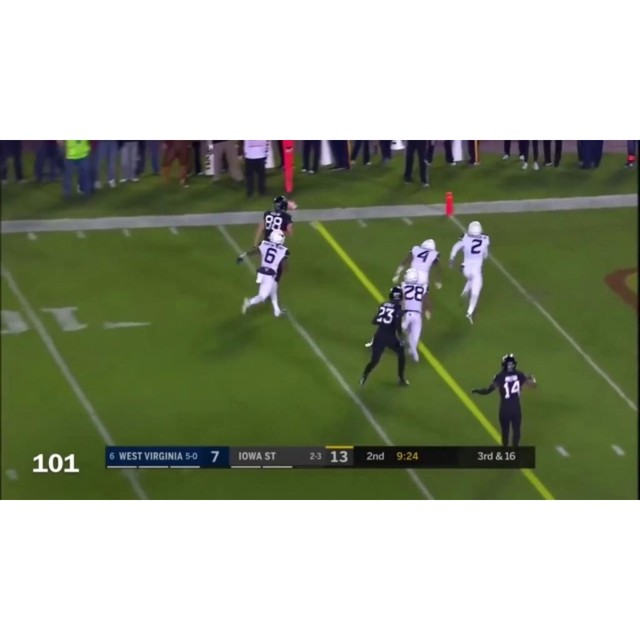american-football-player: (471, 354, 537, 448), (359, 287, 412, 392), (447, 220, 492, 325), (240, 230, 290, 319), (395, 264, 432, 368), (244, 194, 295, 262), (395, 238, 441, 289)
